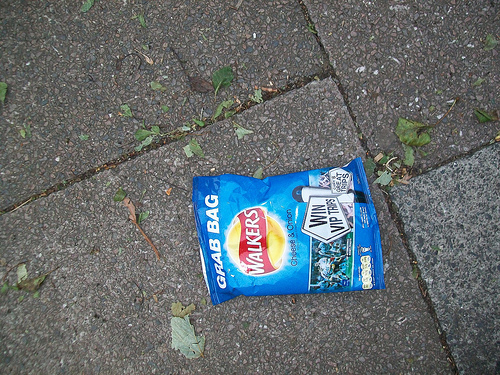litter: (192, 158, 385, 305)
